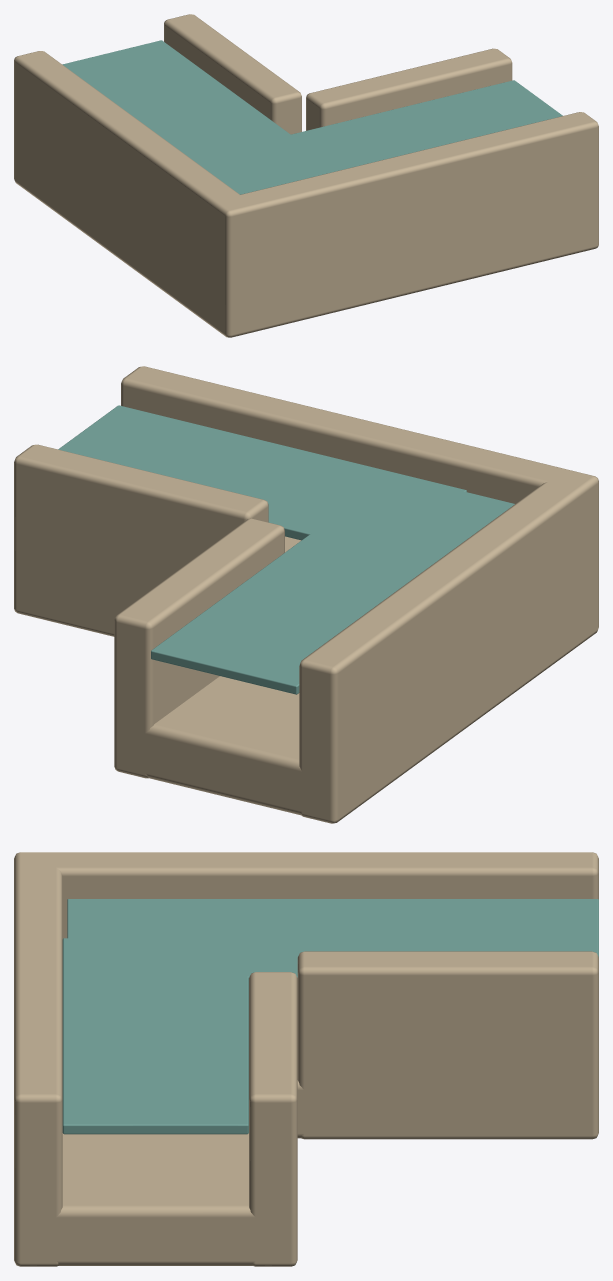
Rendered from coastal-saltworks-and-trade-port-coastal-saltworks-and-fb0b1166__31368.glb.
3 views of the same model, one above another, from view 1: azimuth 30°, elevation 25°; view 2: azimuth 150°, elevation 25°; view 3: azimuth 270°, elevation 25° (orthographic). The views are drawn at different scales.
Visible parts, largest first — view 1: coastal-saltworks-and-trade-port-brine-channel-corner; view 2: coastal-saltworks-and-trade-port-brine-channel-corner; view 3: coastal-saltworks-and-trade-port-brine-channel-corner.
Boxes of the visible parts, x1,y1,x2,y2 form: coastal-saltworks-and-trade-port-brine-channel-corner: (14,14,598,337); coastal-saltworks-and-trade-port-brine-channel-corner: (14,366,598,823); coastal-saltworks-and-trade-port-brine-channel-corner: (14,852,598,1266).
Size of the model in its own units: 1.32 by 0.43 by 1.32.
